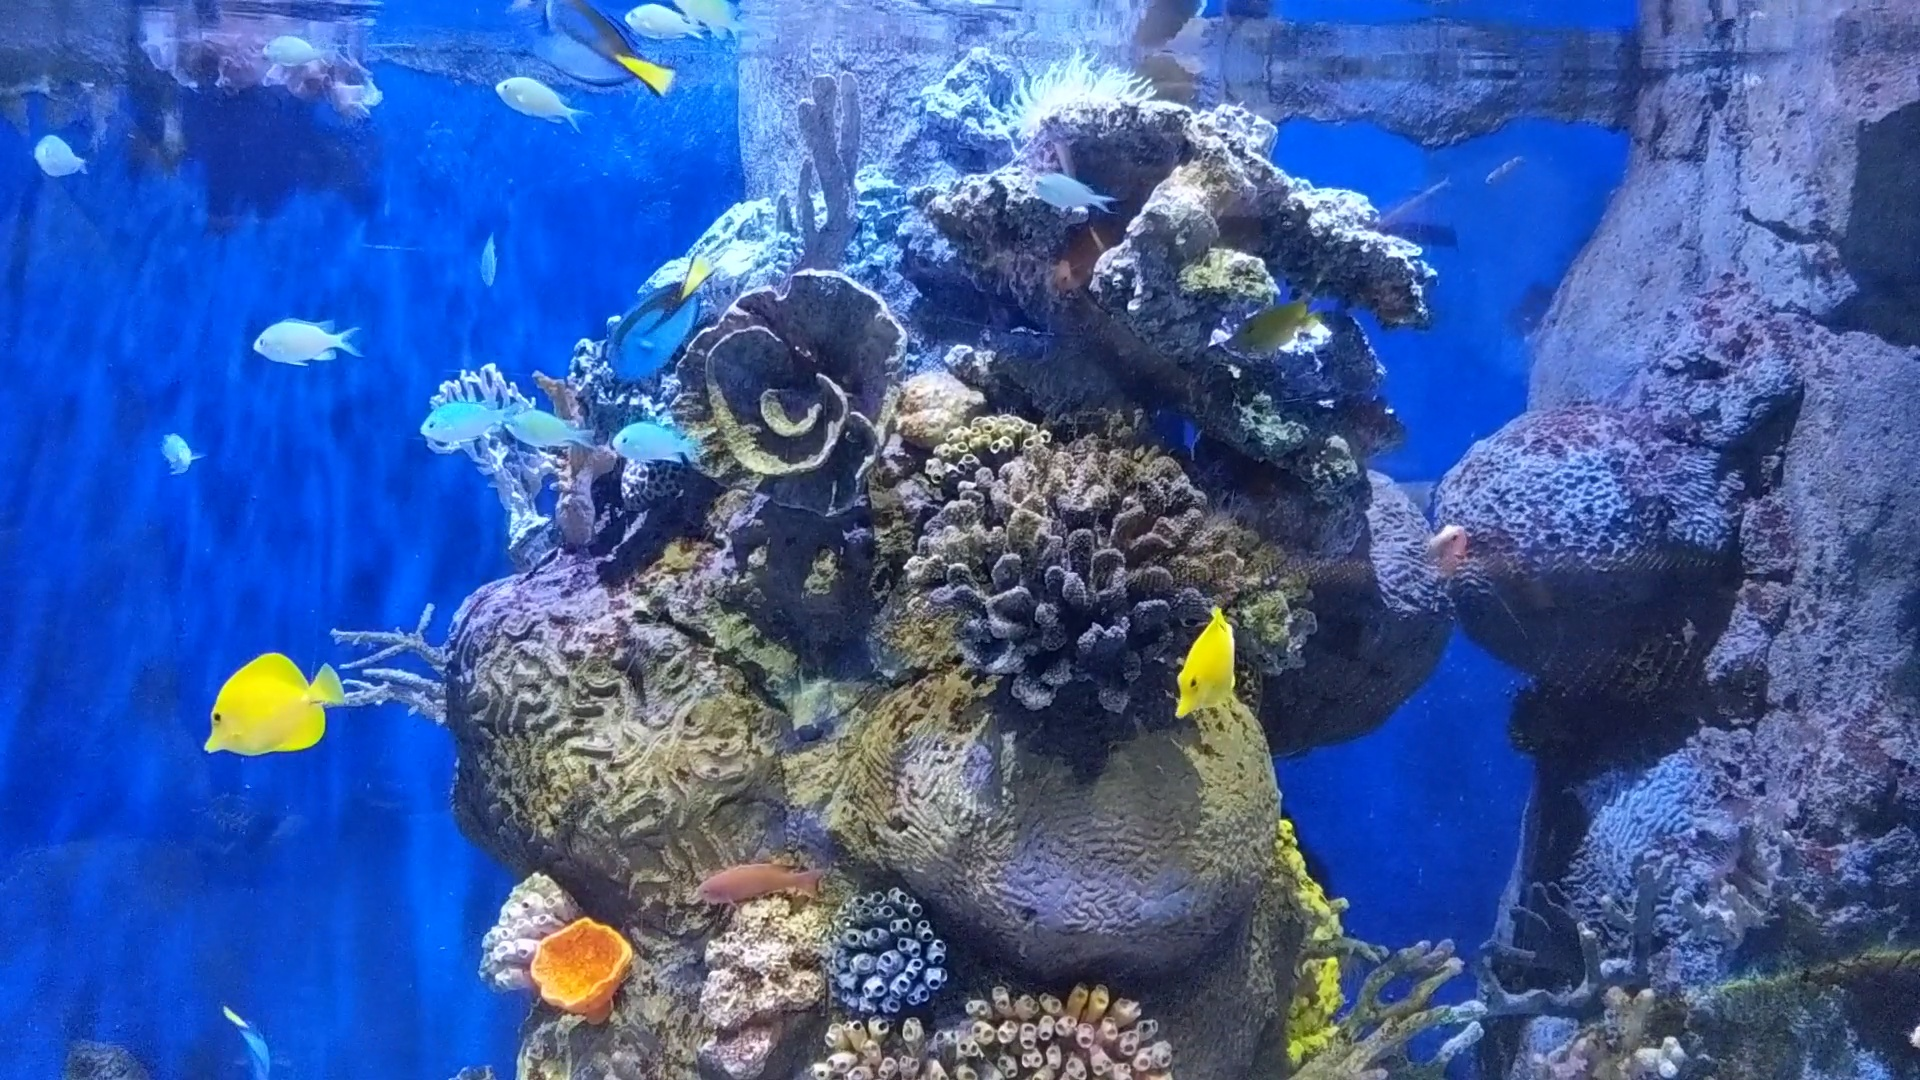blue tang surgeonfish: (504, 0, 699, 103), (603, 266, 719, 376)
damselfish: (237, 302, 371, 380), (600, 406, 725, 487), (1007, 152, 1121, 233), (480, 67, 585, 142), (495, 384, 589, 458), (604, 0, 737, 51), (404, 394, 514, 450), (17, 121, 87, 181)
pink fish: (1408, 500, 1472, 596)
saddle butterfly fish: (170, 630, 353, 782), (1125, 597, 1261, 735)
